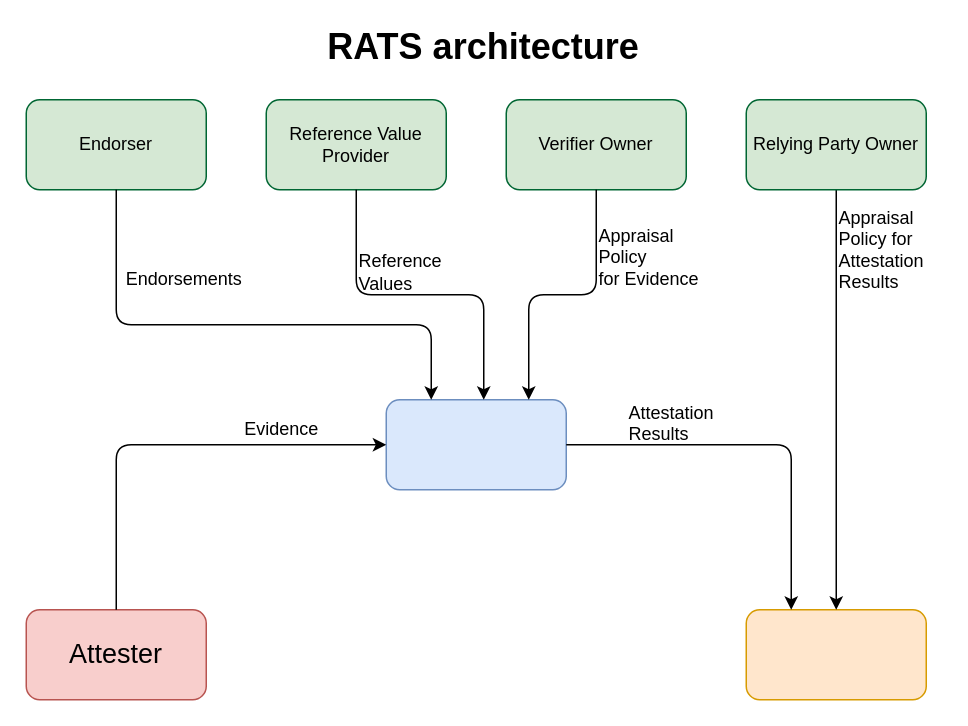
Image size: 968x726. Some labels were removed from this diagram. Each missing label, with the centre of its shape:
Relying Party: (835,654)
Verifier: (475,444)
